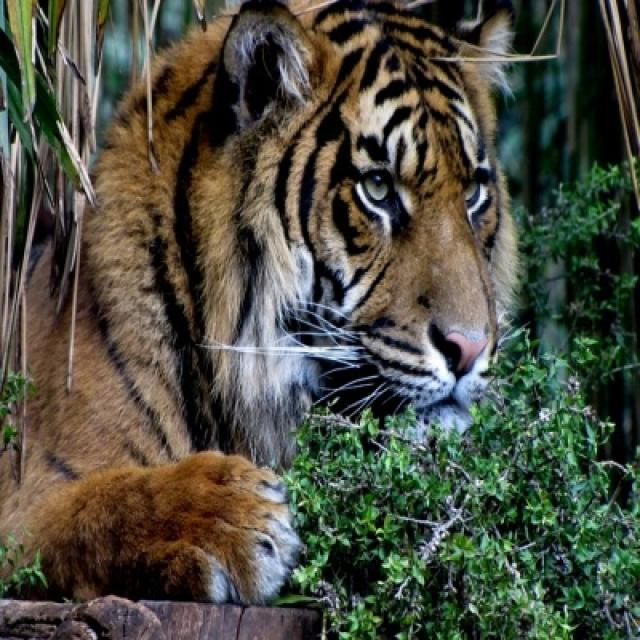Tiger: (0, 0, 517, 602)
